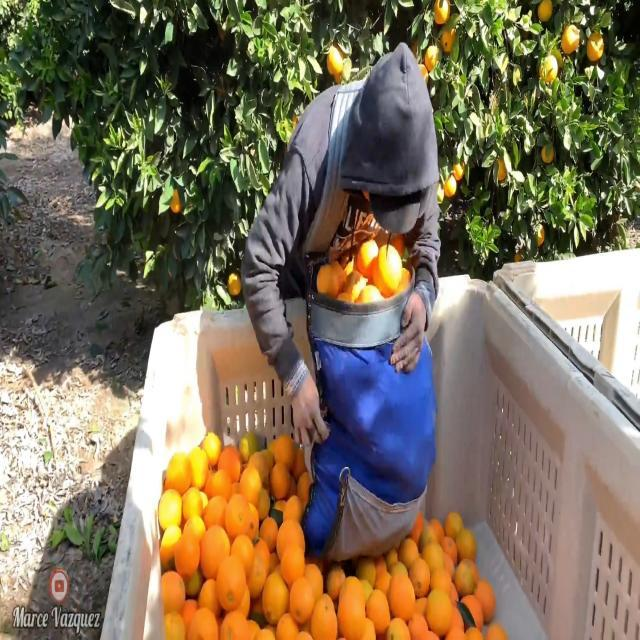Jeruk Sudah Matang: (326, 46, 344, 81), (585, 31, 604, 64), (164, 186, 184, 216), (539, 53, 560, 81), (439, 23, 459, 51), (562, 24, 579, 56), (432, 1, 452, 25), (424, 42, 442, 68), (226, 270, 242, 298), (535, 0, 554, 23), (444, 171, 458, 201), (494, 152, 508, 180), (540, 140, 554, 166)
